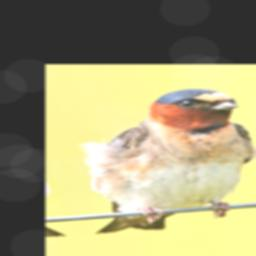Swallow: (64, 84, 256, 236)
